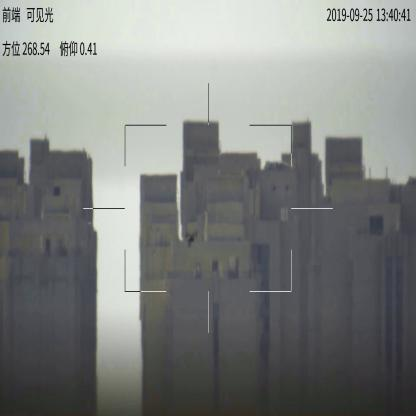uav: (182, 228, 199, 252)
